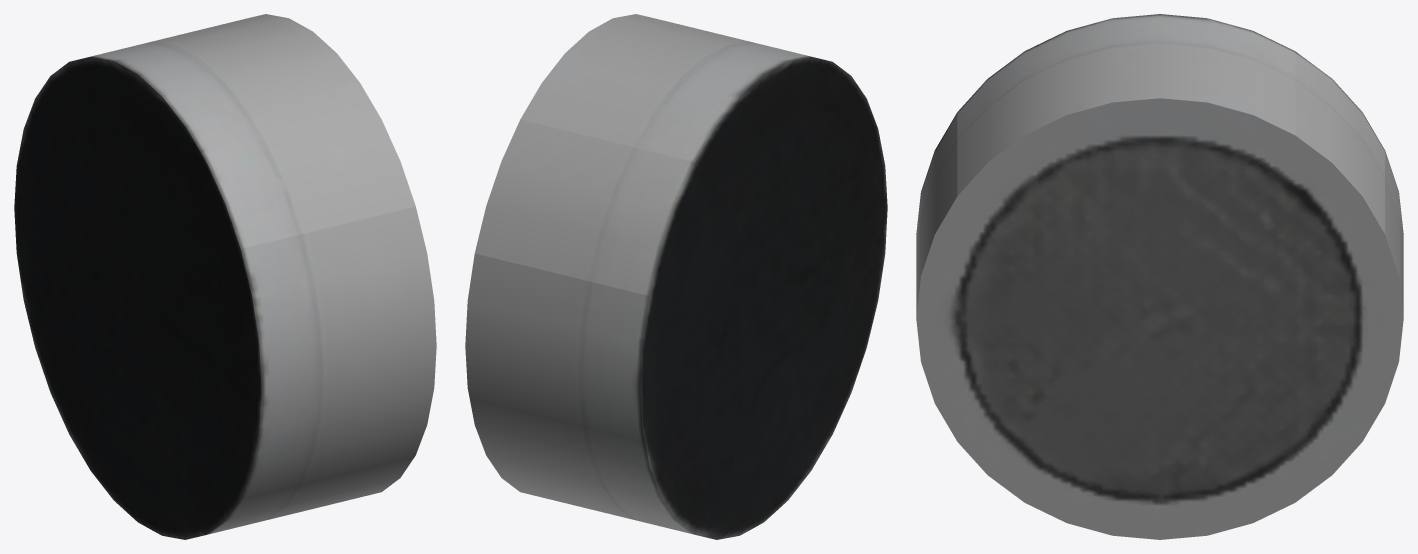
The model's file is knob__knob_body.glb.
3 renders of one model, left to right at view 1: azimuth 30°, elevation 25°; view 2: azimuth 150°, elevation 25°; view 3: azimuth 270°, elevation 25°, orthographic.
Visible parts, largest first — view 1: geometry_0; view 2: geometry_0; view 3: geometry_0.
Boxes of the visible parts, x1,y1,x2,y2 form: geometry_0: [14, 14, 436, 539]; geometry_0: [465, 14, 887, 539]; geometry_0: [916, 14, 1403, 539].
Bounding box in the file's own units: 0.018 × 0.044 × 0.044.
1 material, 1 textured.
